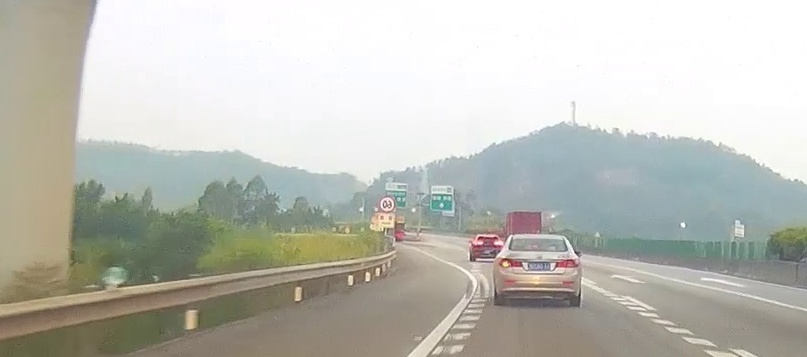L_light: (498, 258, 523, 268)
R_light: (555, 259, 579, 268)
T_light: (531, 249, 548, 252)
day-left: (492, 234, 582, 307)
